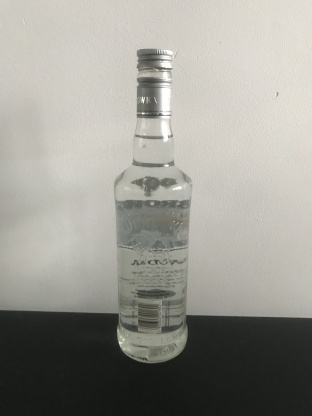nakretka: (134, 46, 175, 120)
